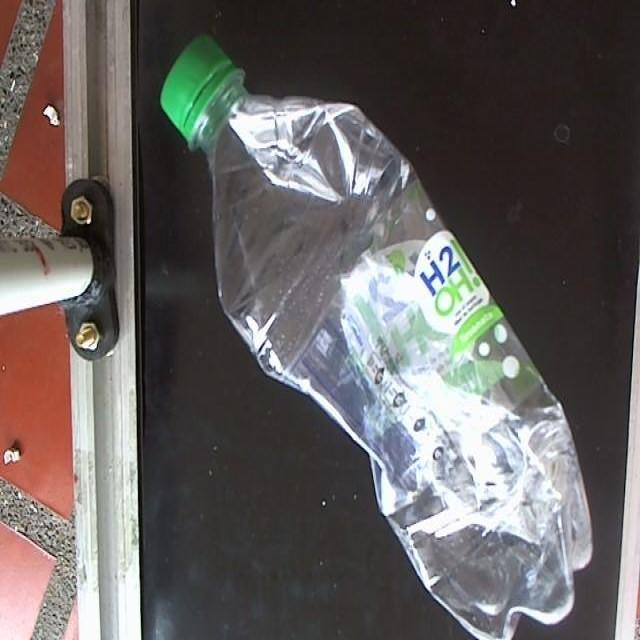defect: (156, 30, 595, 640)
